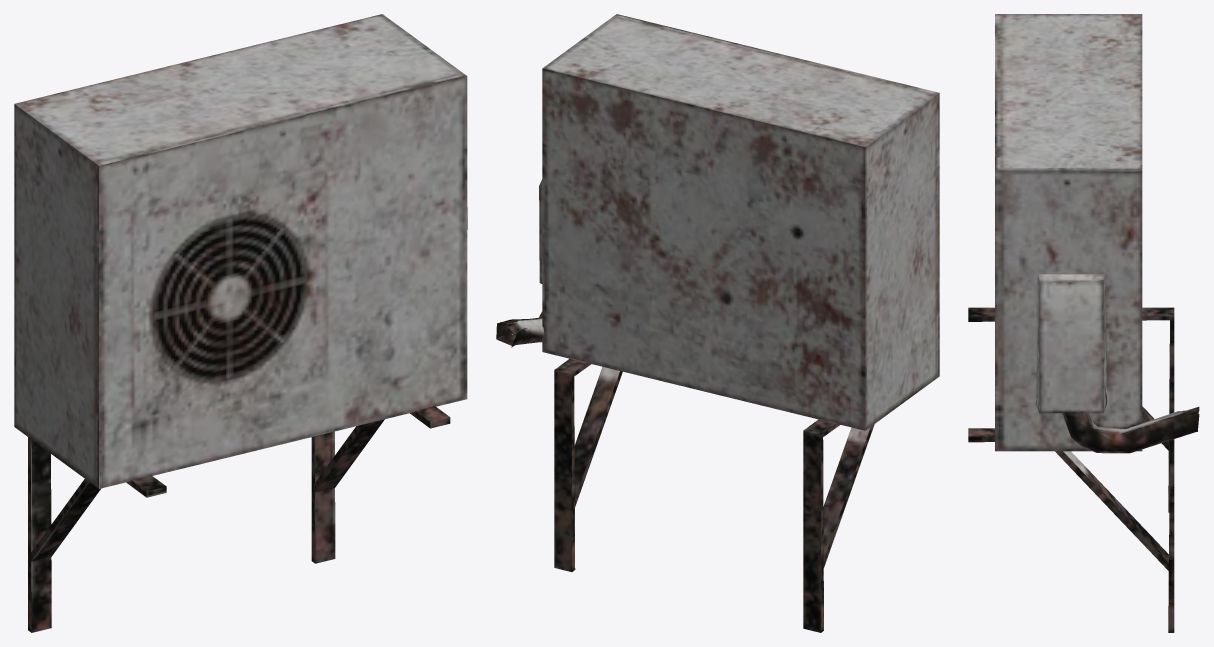
The model's file is ac_unit_weathered_lod1.glb.
The picture shows the model from 3 angles, left to right: view 1: azimuth 30°, elevation 25°; view 2: azimuth 150°, elevation 25°; view 3: azimuth 270°, elevation 25°; orthographic projection. The views are drawn at different scales.
Visible parts, largest first — view 1: ac_unit_weathered_lod1; view 2: ac_unit_weathered_lod1; view 3: ac_unit_weathered_lod1.
Boxes of the visible parts, x1,y1,x2,y2 form: ac_unit_weathered_lod1: (14,14,467,632); ac_unit_weathered_lod1: (496,14,939,632); ac_unit_weathered_lod1: (968,14,1199,632).
Bounding box in the file's own units: 0.7983 × 1.06 × 0.4662.
Materials: 1 (1 with a texture image).
